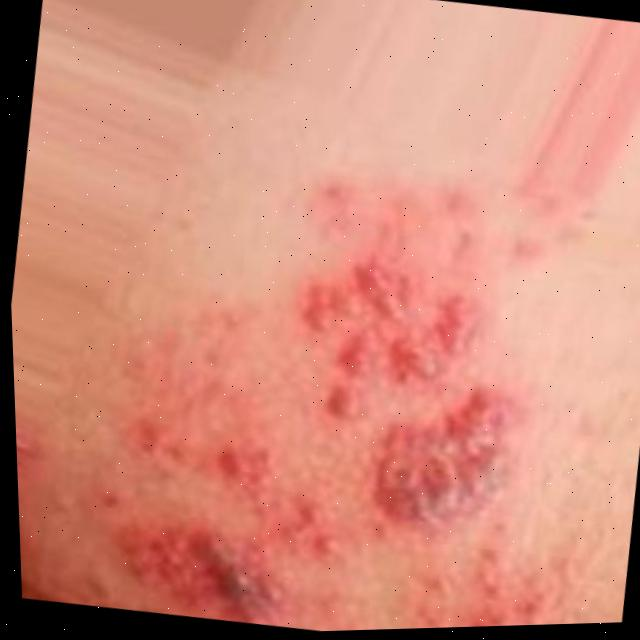Shingles: (95, 161, 581, 637)
